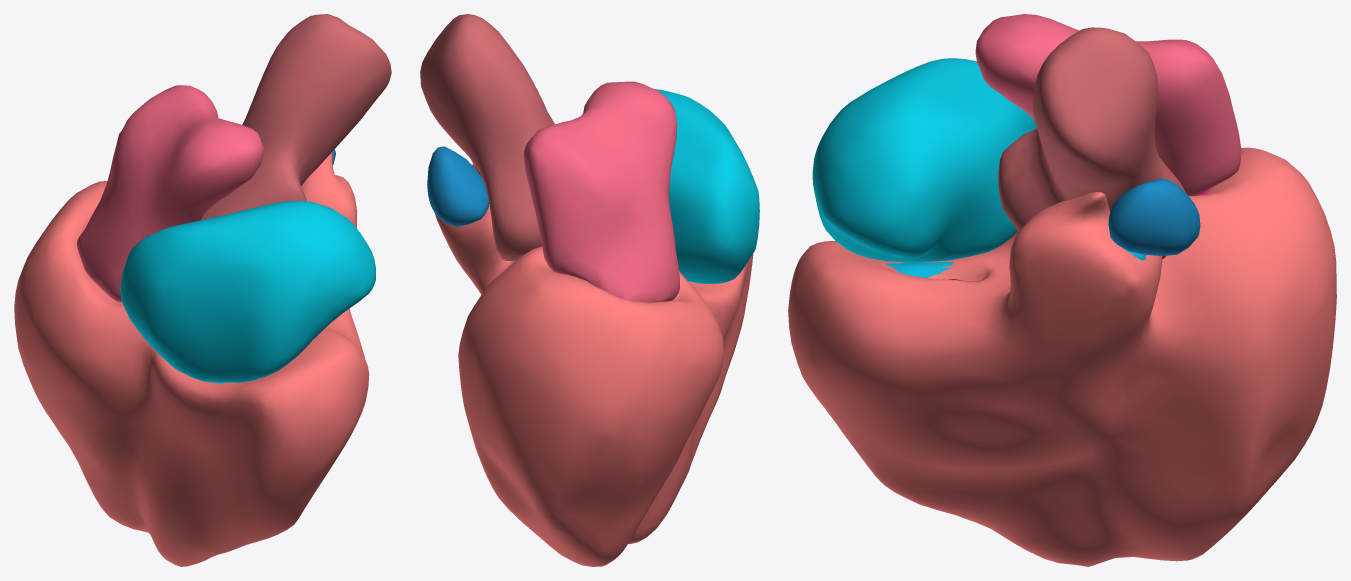
Rendered from frame_15.glb.
The picture shows the model from 3 angles, left to right: view 1: azimuth 30°, elevation 25°; view 2: azimuth 150°, elevation 25°; view 3: azimuth 270°, elevation 25°; orthographic projection. The views are drawn at different scales.
Parts seen in each view (by area): view 1: Renderer Node; view 2: Renderer Node; view 3: Renderer Node.
Part boxes in pixels (x1,y1,x2,y2): Renderer Node: (14, 14, 391, 566); Renderer Node: (420, 14, 759, 566); Renderer Node: (788, 14, 1336, 566).
Bounding box in the file's own units: 106 × 160 × 126.
